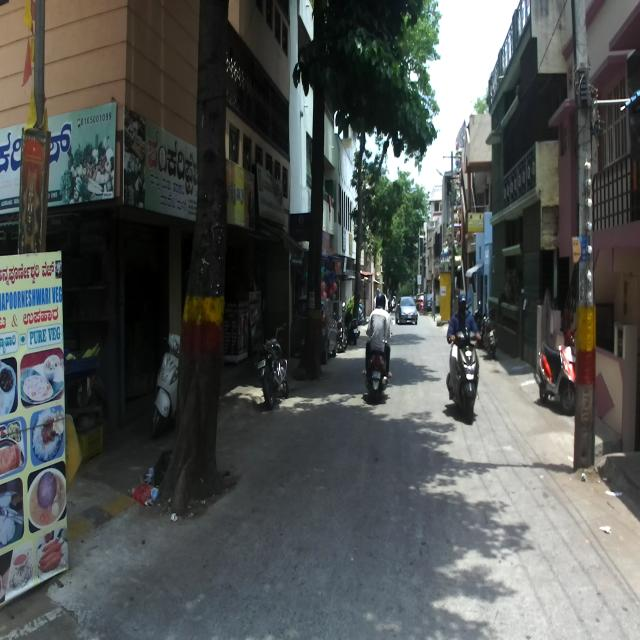electric pole ahead at: (565, 0, 601, 481)
motorcycle ahead at: (445, 324, 483, 426)
tree ahead at: (169, 0, 240, 520)
